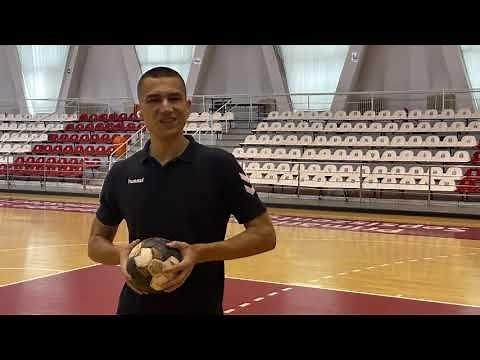ballon_handball: (125, 234, 186, 296)
